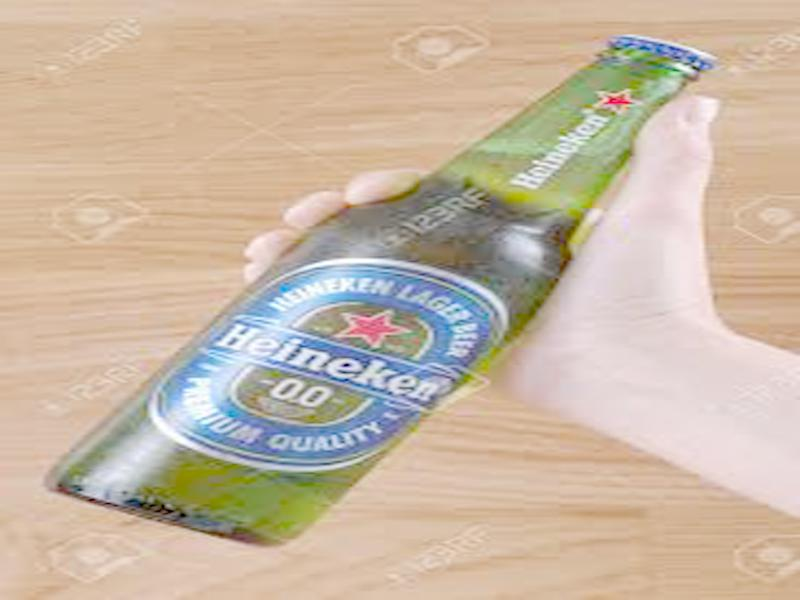Beer: (48, 33, 713, 550)
